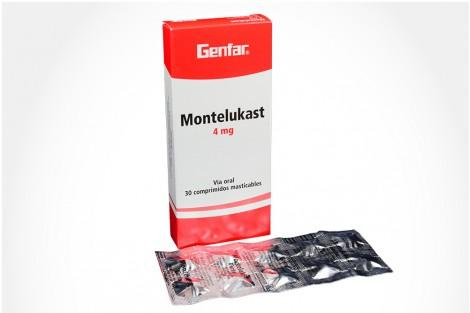Genfar: (176, 28, 272, 248)
